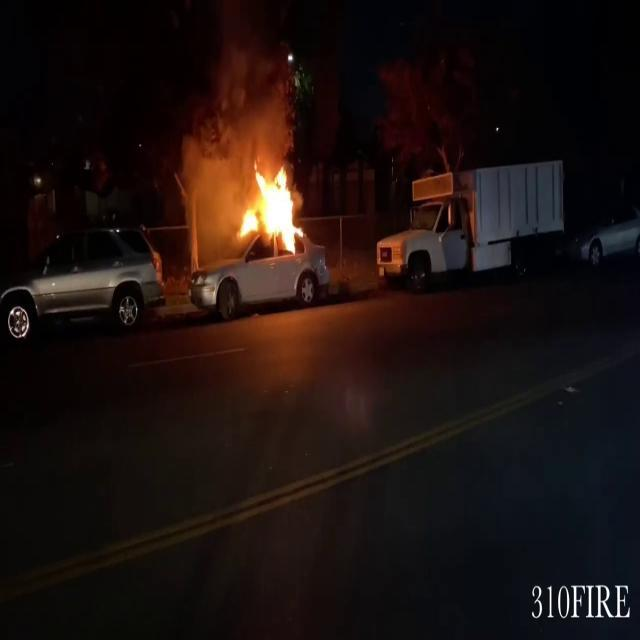Fire: (228, 157, 312, 255)
Smoke: (174, 17, 302, 183)
